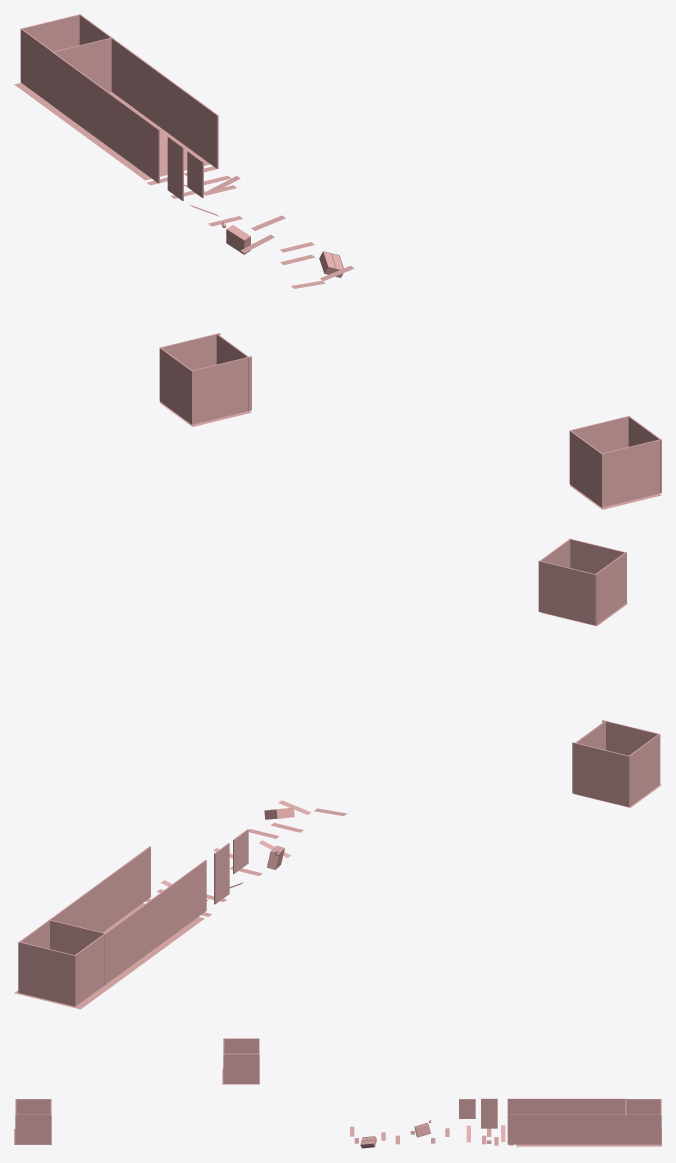
File: maptest2.fbx
3 views of the same model, one above another, from view 1: azimuth 30°, elevation 25°; view 2: azimuth 150°, elevation 25°; view 3: azimuth 270°, elevation 25° (orthographic). The views are drawn at different scales.
Parts seen in each view (by area): view 1: pCube15, pCube14, pCube13, pCube9, pCube7, pCube10, pPlane2, pCube5, pCube2, pCube6, pCube3, pCube11 (+1 smaller); view 2: pCube15, pCube14, pCube6, pCube3, pCube11, pCube10, pCube7, pCube2, pCube9, pCube5, pCube13, pPlane2 (+1 smaller); view 3: pCube14, pCube15, pCube12, pCube4, pCube8, pCube10, pCube2, pCube7, pCube16, pPlane2, pCube17.
Part boxes in pixels (box(x1,y1,x2,y2)): pCube15: box(51, 51, 159, 183); pCube14: box(111, 37, 218, 168); pCube13: box(192, 356, 251, 424); pCube9: box(602, 439, 661, 507); pCube7: box(570, 430, 603, 507); pCube10: box(160, 348, 193, 424); pPlane2: box(14, 83, 210, 180); pCube5: box(54, 37, 112, 92); pCube2: box(21, 29, 53, 104); pCube6: box(569, 416, 629, 483); pCube3: box(20, 14, 80, 81); pCube11: box(159, 333, 220, 400); pCube15: box(104, 860, 206, 984); pCube14: box(48, 846, 150, 945); pCube6: box(538, 560, 596, 625); pCube3: box(18, 941, 75, 1006); pCube11: box(572, 742, 629, 806); pCube10: box(629, 733, 660, 806); pCube7: box(595, 552, 626, 624); pCube2: box(75, 933, 104, 1005); pCube9: box(570, 539, 625, 573); pCube5: box(50, 920, 104, 954); pCube13: box(602, 720, 658, 755); pPlane2: box(14, 903, 204, 1009); pCube14: box(507, 1114, 626, 1144); pCube15: box(507, 1098, 626, 1114); pCube12: box(223, 1053, 258, 1083); pCube4: box(625, 1114, 660, 1144); pCube8: box(16, 1114, 50, 1144); pCube10: box(223, 1038, 258, 1053); pCube2: box(625, 1099, 660, 1114); pCube7: box(16, 1099, 50, 1114); pCube16: box(481, 1098, 497, 1128); pPlane2: box(516, 1128, 661, 1146); pCube17: box(459, 1099, 475, 1118).
Bounding box in the file's own units: 204 × 44.72 × 715.
